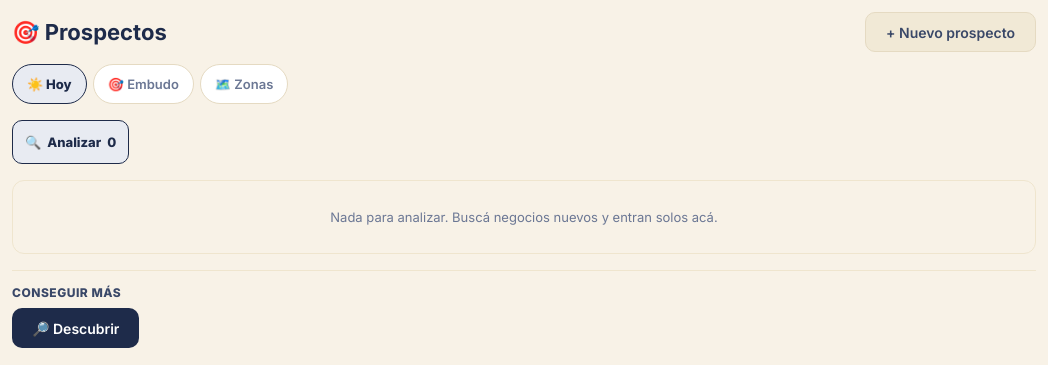
Test: Prospectos (módulo) — pestañas y alias de deep-link (F1) › Embudo muestra el kanban puro (sin discovery adentro)
Click the button "🎯 Embudo".
click(143, 84)  # box [93,64,194,104]
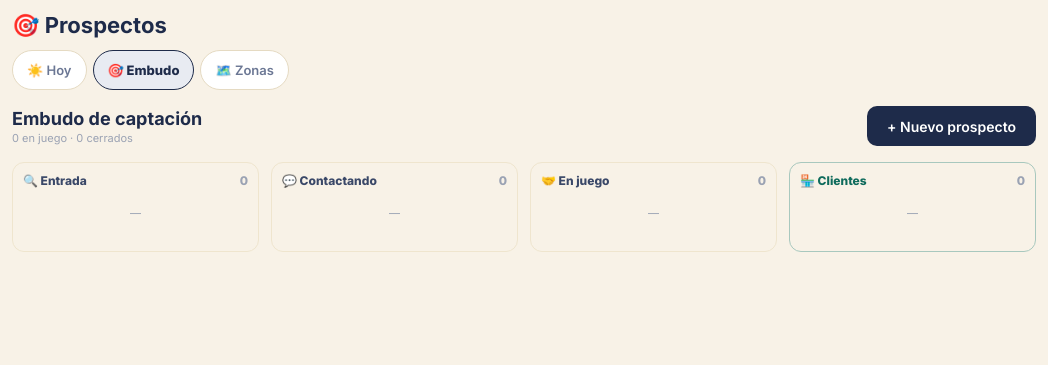
expect the button "+ Nuevo prospecto" is shown: met, box [867,106,1036,146]
expect the heading "Embudo de captación" is shown: met, box [12,108,202,128]
expect the button "🔎 Descubrir" is gone: met
